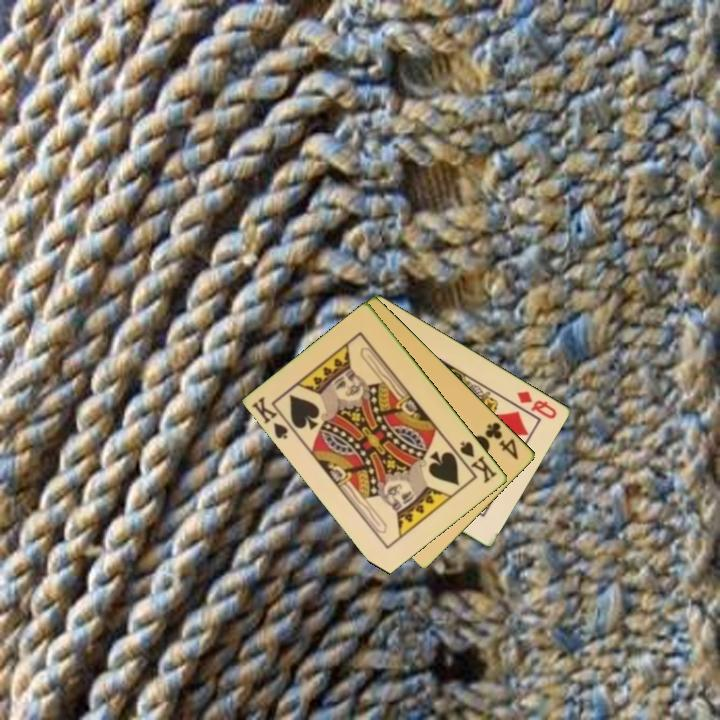4c: (482, 418, 522, 463)
Ks: (249, 393, 299, 442), (457, 438, 500, 486)
Qd: (513, 387, 560, 422)
